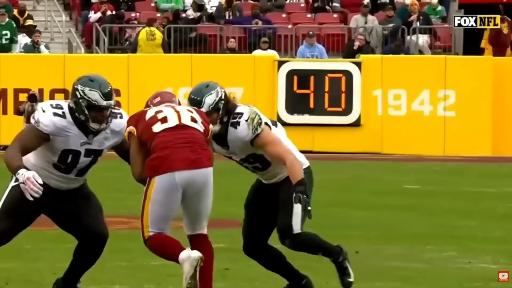Helmet: (70, 75, 115, 131), (188, 82, 228, 121), (145, 91, 180, 108)
Jersey: (23, 101, 127, 189), (213, 105, 309, 183), (126, 104, 212, 178), (0, 20, 17, 52)
Player: (188, 82, 353, 287), (0, 75, 129, 287), (127, 92, 213, 287)
